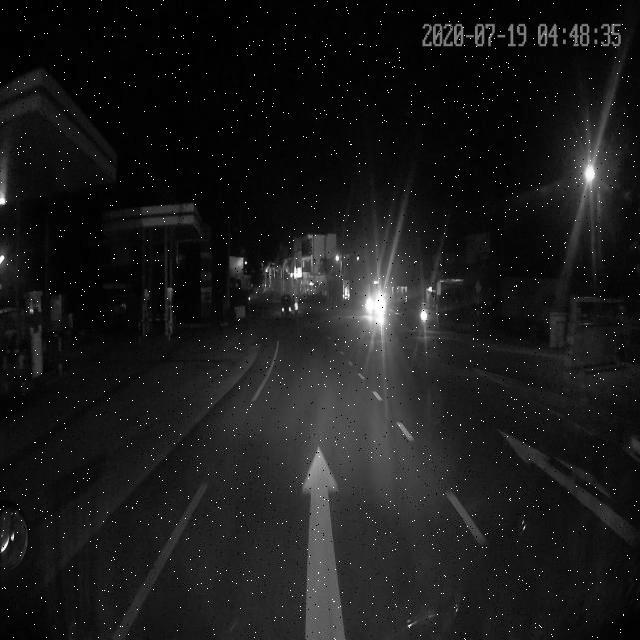forward: (107, 424, 541, 639)
